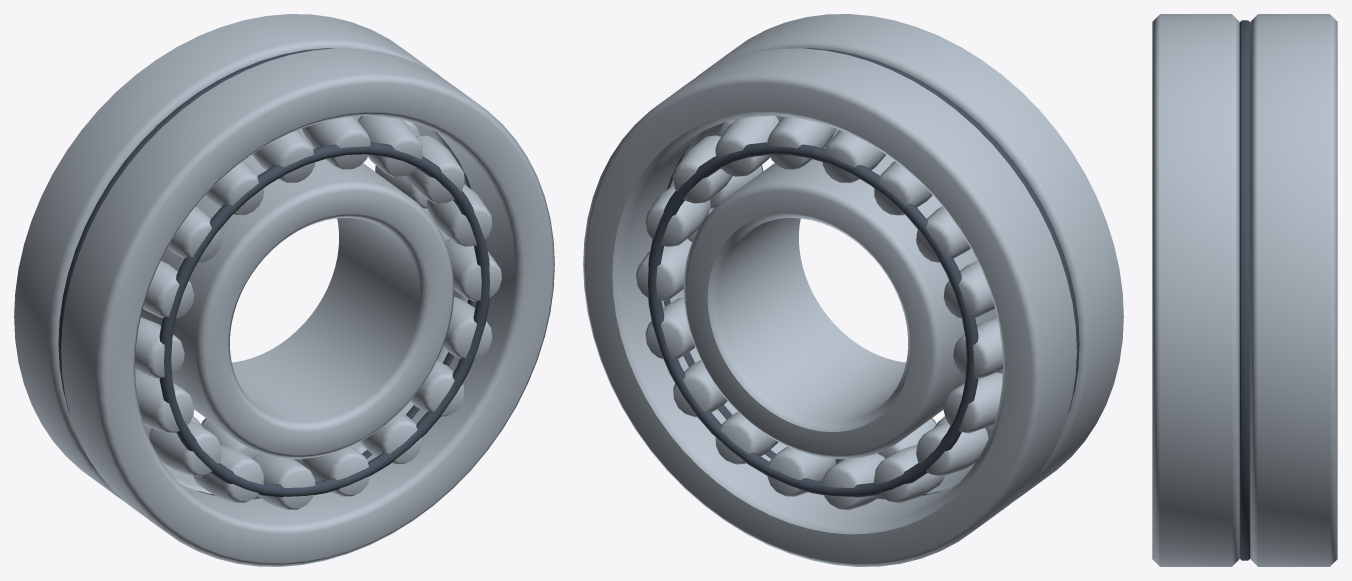
File: spherical-roller-bearing.glb
The picture shows the model from 3 angles, left to right: view 1: azimuth 30°, elevation 25°; view 2: azimuth 150°, elevation 25°; view 3: azimuth 270°, elevation 25°; orthographic projection. The views are drawn at different scales.
Visible parts, largest first — view 1: outer-race-half (×2), inner-race-through-bore, roller-cage, central-outer-groove, barrel-roller-front-11, barrel-roller-front-3, barrel-roller-front-10, barrel-roller-front-4, barrel-roller-front-2, barrel-roller-front-1, barrel-roller-front-13, barrel-roller-front-12 (+10 smaller); view 2: outer-race-half (×2), inner-race-through-bore, roller-cage, central-outer-groove, barrel-roller-back-11, barrel-roller-back-3, barrel-roller-back-10, barrel-roller-back-4, barrel-roller-back-2, barrel-roller-back-1, barrel-roller-back-13, barrel-roller-back-12 (+10 smaller); view 3: outer-race-half (×2), central-outer-groove.
Part boxes in pixels (bbox=[...]): outer-race-half (×2): bbox=[14, 14, 554, 566]; inner-race-through-bore: bbox=[141, 129, 454, 458]; roller-cage: bbox=[159, 142, 489, 497]; central-outer-groove: bbox=[58, 48, 474, 499]; barrel-roller-front-11: bbox=[148, 421, 221, 476]; barrel-roller-front-3: bbox=[358, 116, 422, 176]; barrel-roller-front-10: bbox=[135, 372, 194, 433]; barrel-roller-front-4: bbox=[302, 116, 370, 169]; barrel-roller-front-2: bbox=[406, 135, 464, 203]; barrel-roller-front-1: bbox=[427, 184, 492, 246]; barrel-roller-front-13: bbox=[252, 453, 315, 510]; barrel-roller-front-12: bbox=[193, 444, 263, 503]; outer-race-half (×2): bbox=[583, 14, 1123, 566]; inner-race-through-bore: bbox=[683, 129, 996, 458]; roller-cage: bbox=[648, 142, 978, 497]; central-outer-groove: bbox=[663, 48, 1079, 499]; barrel-roller-back-11: bbox=[916, 421, 989, 476]; barrel-roller-back-3: bbox=[715, 116, 779, 176]; barrel-roller-back-10: bbox=[943, 372, 1002, 433]; barrel-roller-back-4: bbox=[767, 116, 835, 169]; barrel-roller-back-2: bbox=[673, 135, 732, 203]; barrel-roller-back-1: bbox=[645, 184, 710, 246]; barrel-roller-back-13: bbox=[822, 453, 885, 510]; barrel-roller-back-12: bbox=[874, 444, 944, 503]; outer-race-half (×2): bbox=[1152, 14, 1337, 566]; central-outer-groove: bbox=[1239, 20, 1250, 560].
Bounding box in the file's own units: 1.74 × 1.74 × 0.583.
